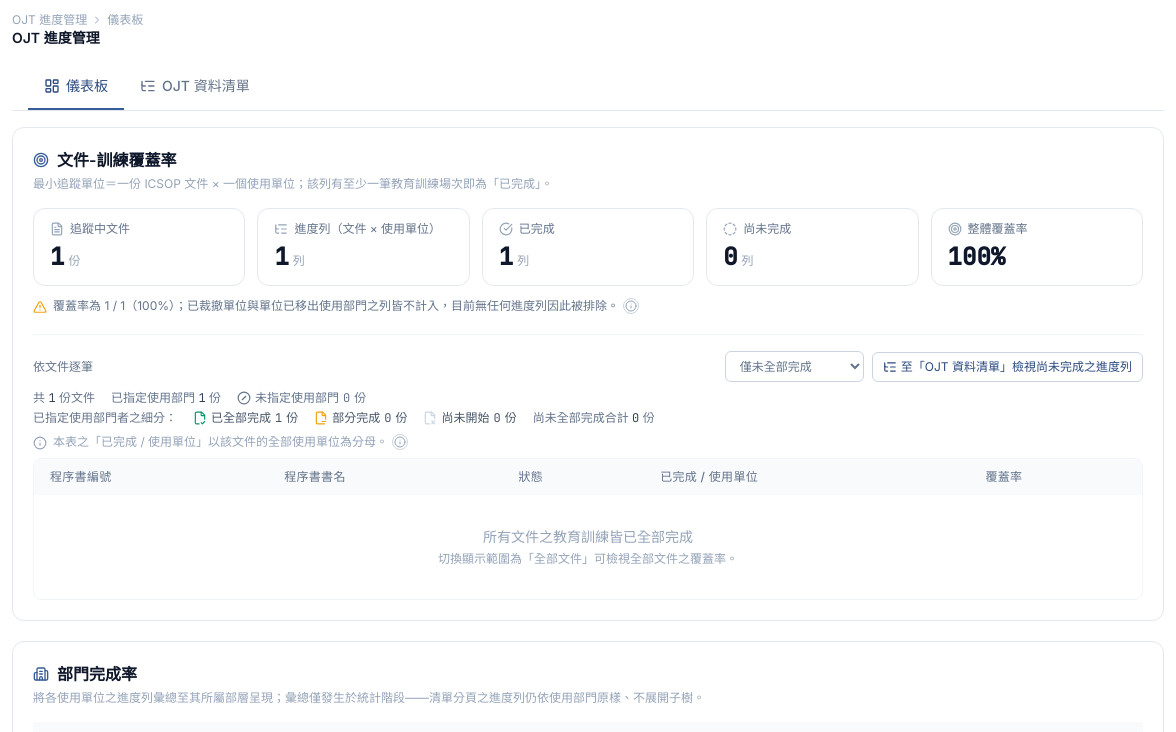
Test: ② 應完成訓練日期＝公告日期 + 1 個月，標示於程序書名之後 › 無公告日期 → 仍進 DOM，值為「—」（不整個消失，否則會被讀成「沒有期限」）
Step 1. Click the tab "OJT 資料清單" → click(195, 87), box [124,64,266,110]
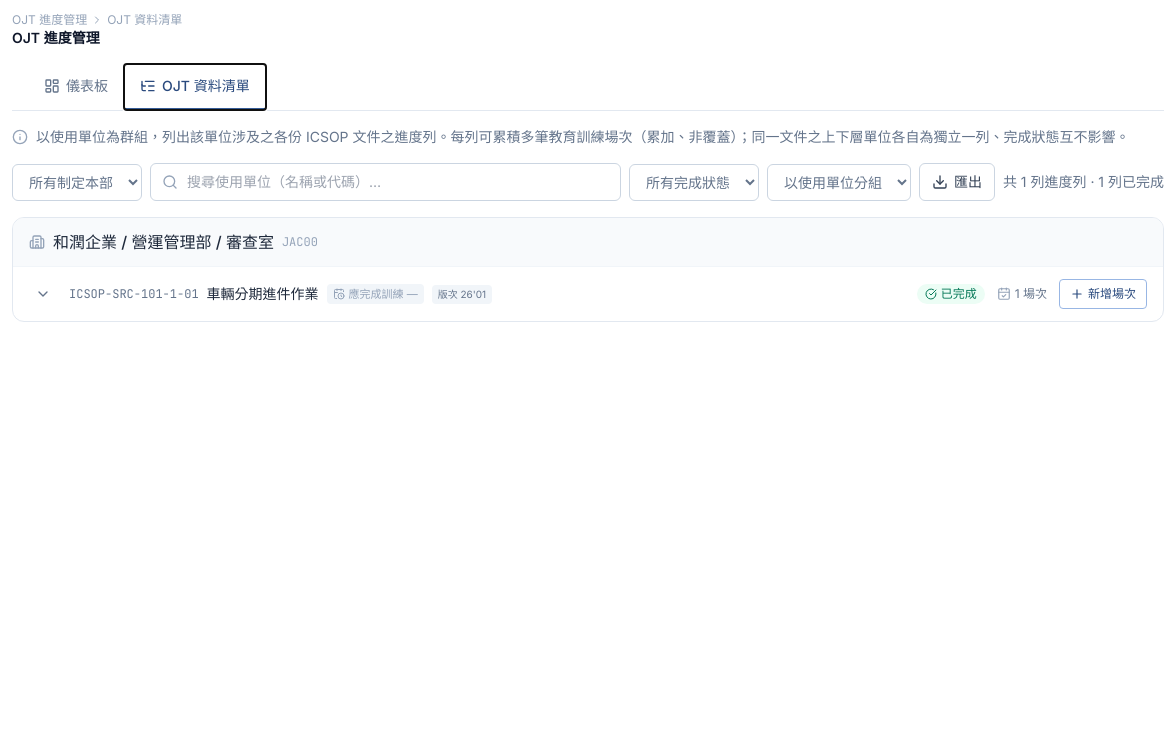
Result: the element showing "ICSOP-SRC-101-1-01 車輛分期進件作業 應完成訓練 — 版次 26'01 已完成 1 場次 新增場次" is shown at [29,279,1147,309]
Result: the element showing "應完成訓練 —" is shown at [327,284,424,304]
